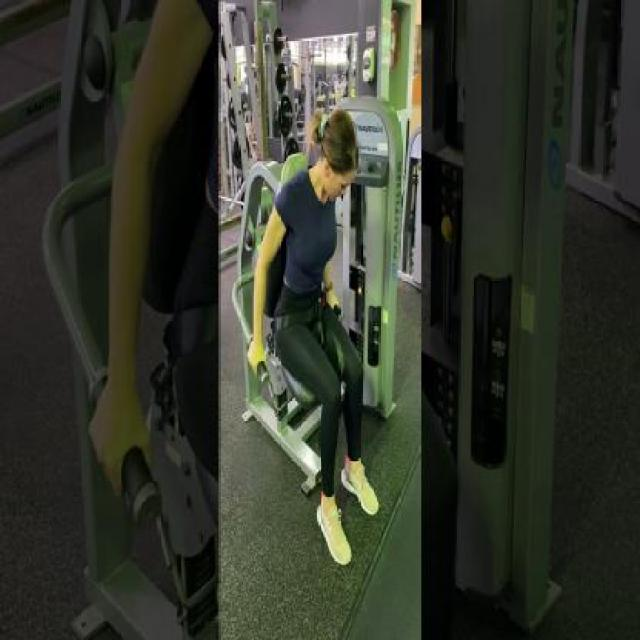seated dip machine: (232, 95, 405, 577)
